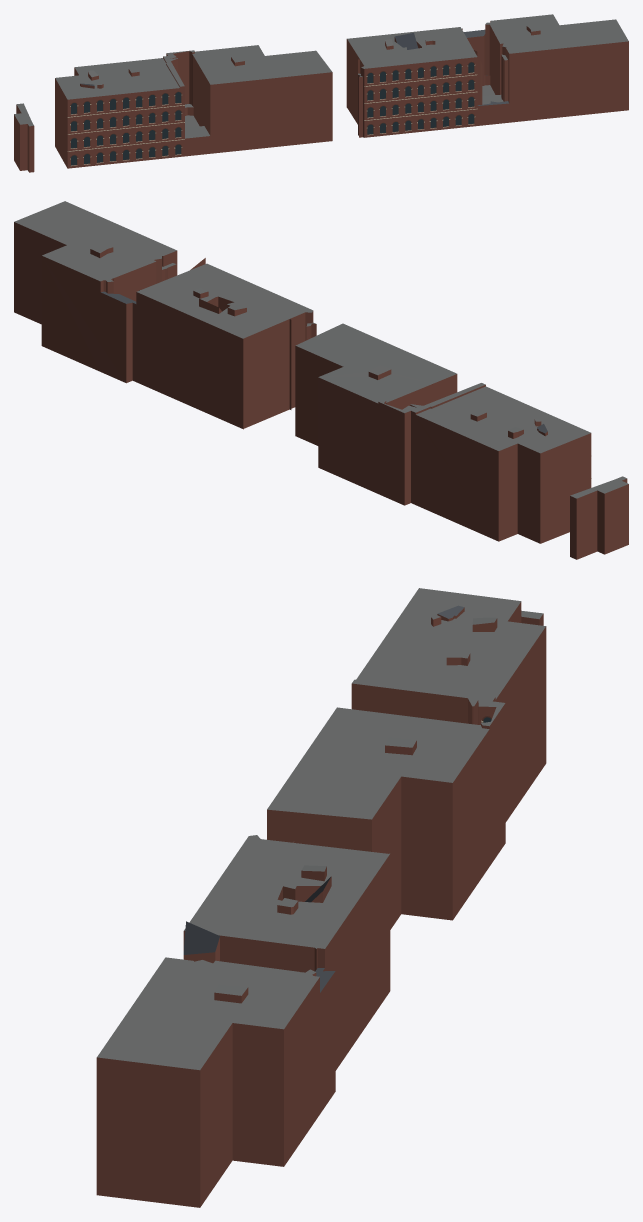
File: recipe-large-oostelijke-handelskade-749-239388.glb
3 views of the same model, one above another, from view 1: azimuth 30°, elevation 25°; view 2: azimuth 150°, elevation 25°; view 3: azimuth 270°, elevation 25° (orthographic). The views are drawn at different scales.
Visible parts, largest first — view 1: oostelijke-handelskade-749-239388; view 2: oostelijke-handelskade-749-239388; view 3: oostelijke-handelskade-749-239388.
Boxes of the visible parts, box(x1,y1,x2,y2) form: oostelijke-handelskade-749-239388: box(14, 14, 628, 172); oostelijke-handelskade-749-239388: box(14, 201, 628, 559); oostelijke-handelskade-749-239388: box(96, 588, 546, 1207).
Size of the model in its own units: 191 by 25.72 by 70.03.
